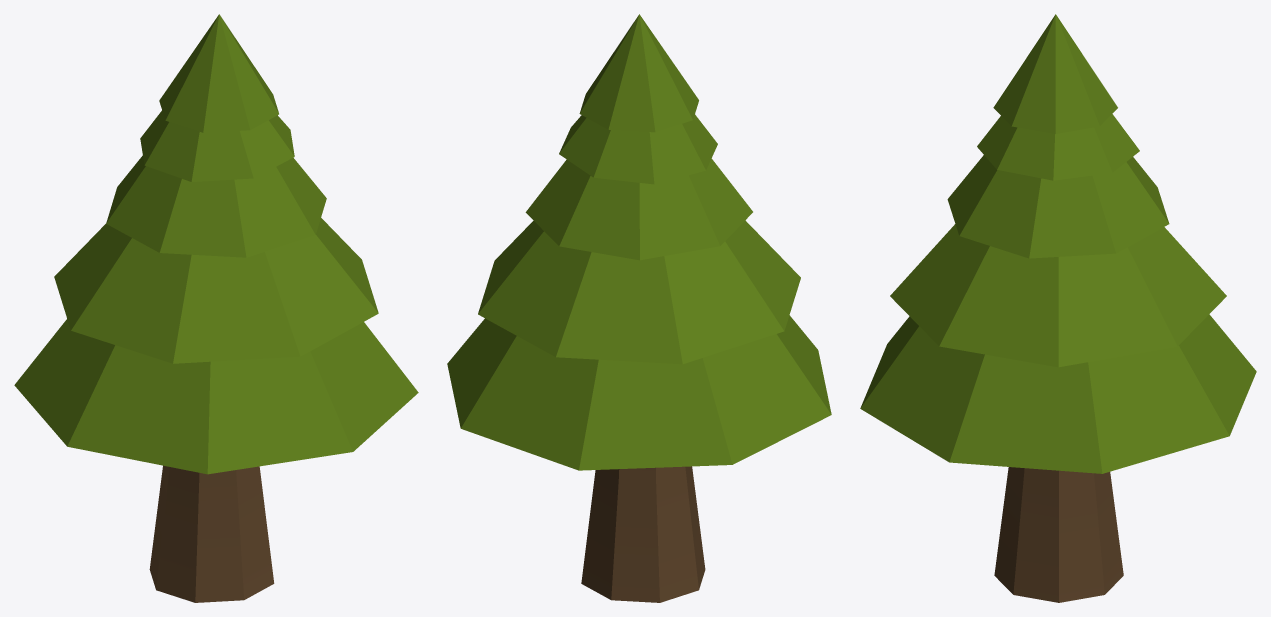
The model's file is Tree3.fbx.
3 views of the same model, side by side, from view 1: azimuth 30°, elevation 25°; view 2: azimuth 150°, elevation 25°; view 3: azimuth 270°, elevation 25° (orthographic).
Visible parts, largest first — view 1: Tree; view 2: Tree; view 3: Tree.
Part boxes in pixels (x1,y1,x2,y2): Tree: [14, 14, 418, 602]; Tree: [447, 14, 831, 602]; Tree: [860, 14, 1256, 602].
Size of the model in its own units: 269 by 422 by 269.
